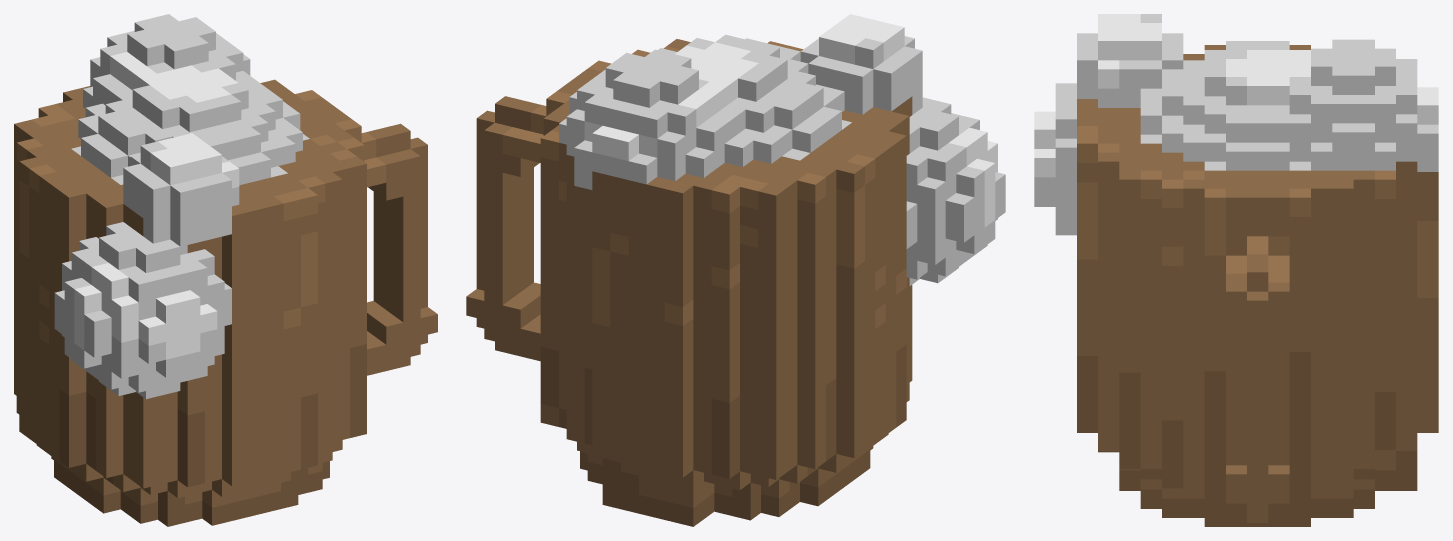
File: Beer.fbx
3 views of the same model, side by side, from view 1: azimuth 30°, elevation 25°; view 2: azimuth 150°, elevation 25°; view 3: azimuth 270°, elevation 25° (orthographic). The views are drawn at different scales.
Parts seen in each view (by area): view 1: Cube.069; view 2: Cube.069; view 3: Cube.069.
Part boxes in pixels (box(x1,y1,x2,y2)): Cube.069: box(14, 14, 437, 526); Cube.069: box(466, 14, 1005, 526); Cube.069: box(1034, 14, 1438, 526).
Size of the model in its own units: 24 by 22 by 19.
